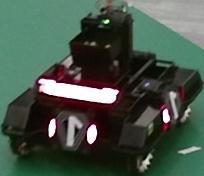armor_1: (49, 118, 97, 145)
light: (38, 77, 119, 104)
